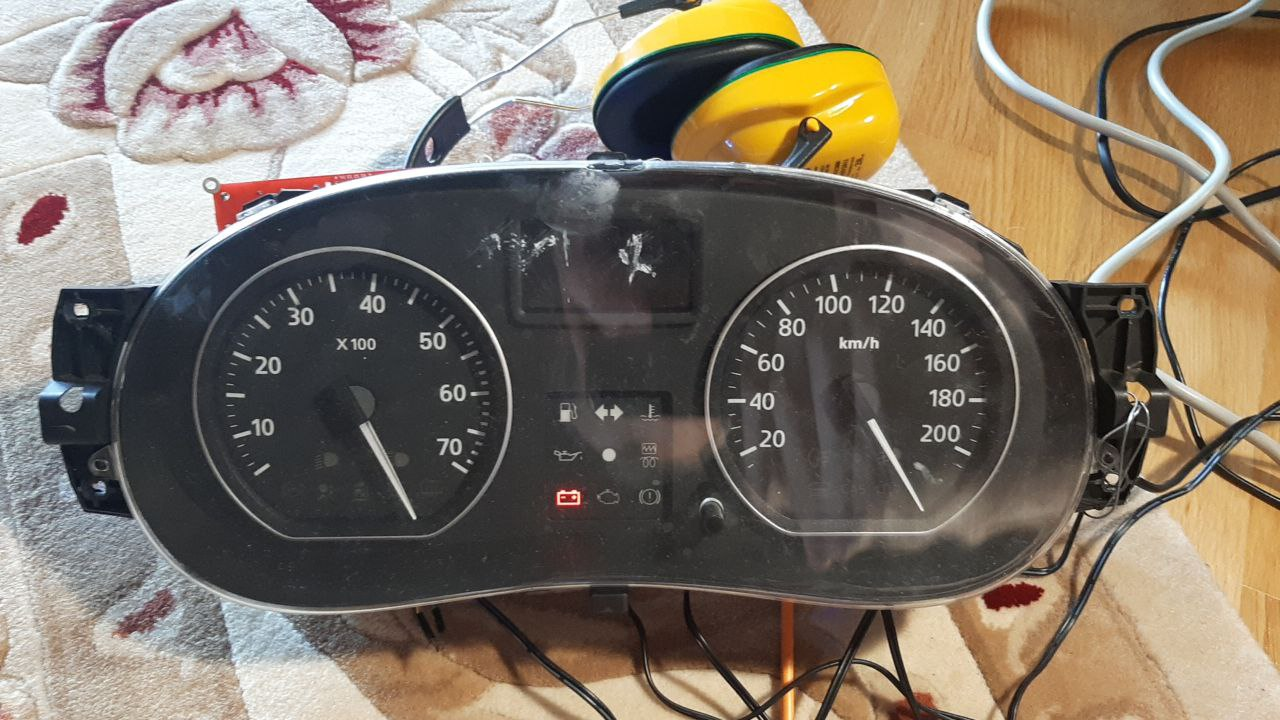accumulator: (549, 483, 586, 511)
